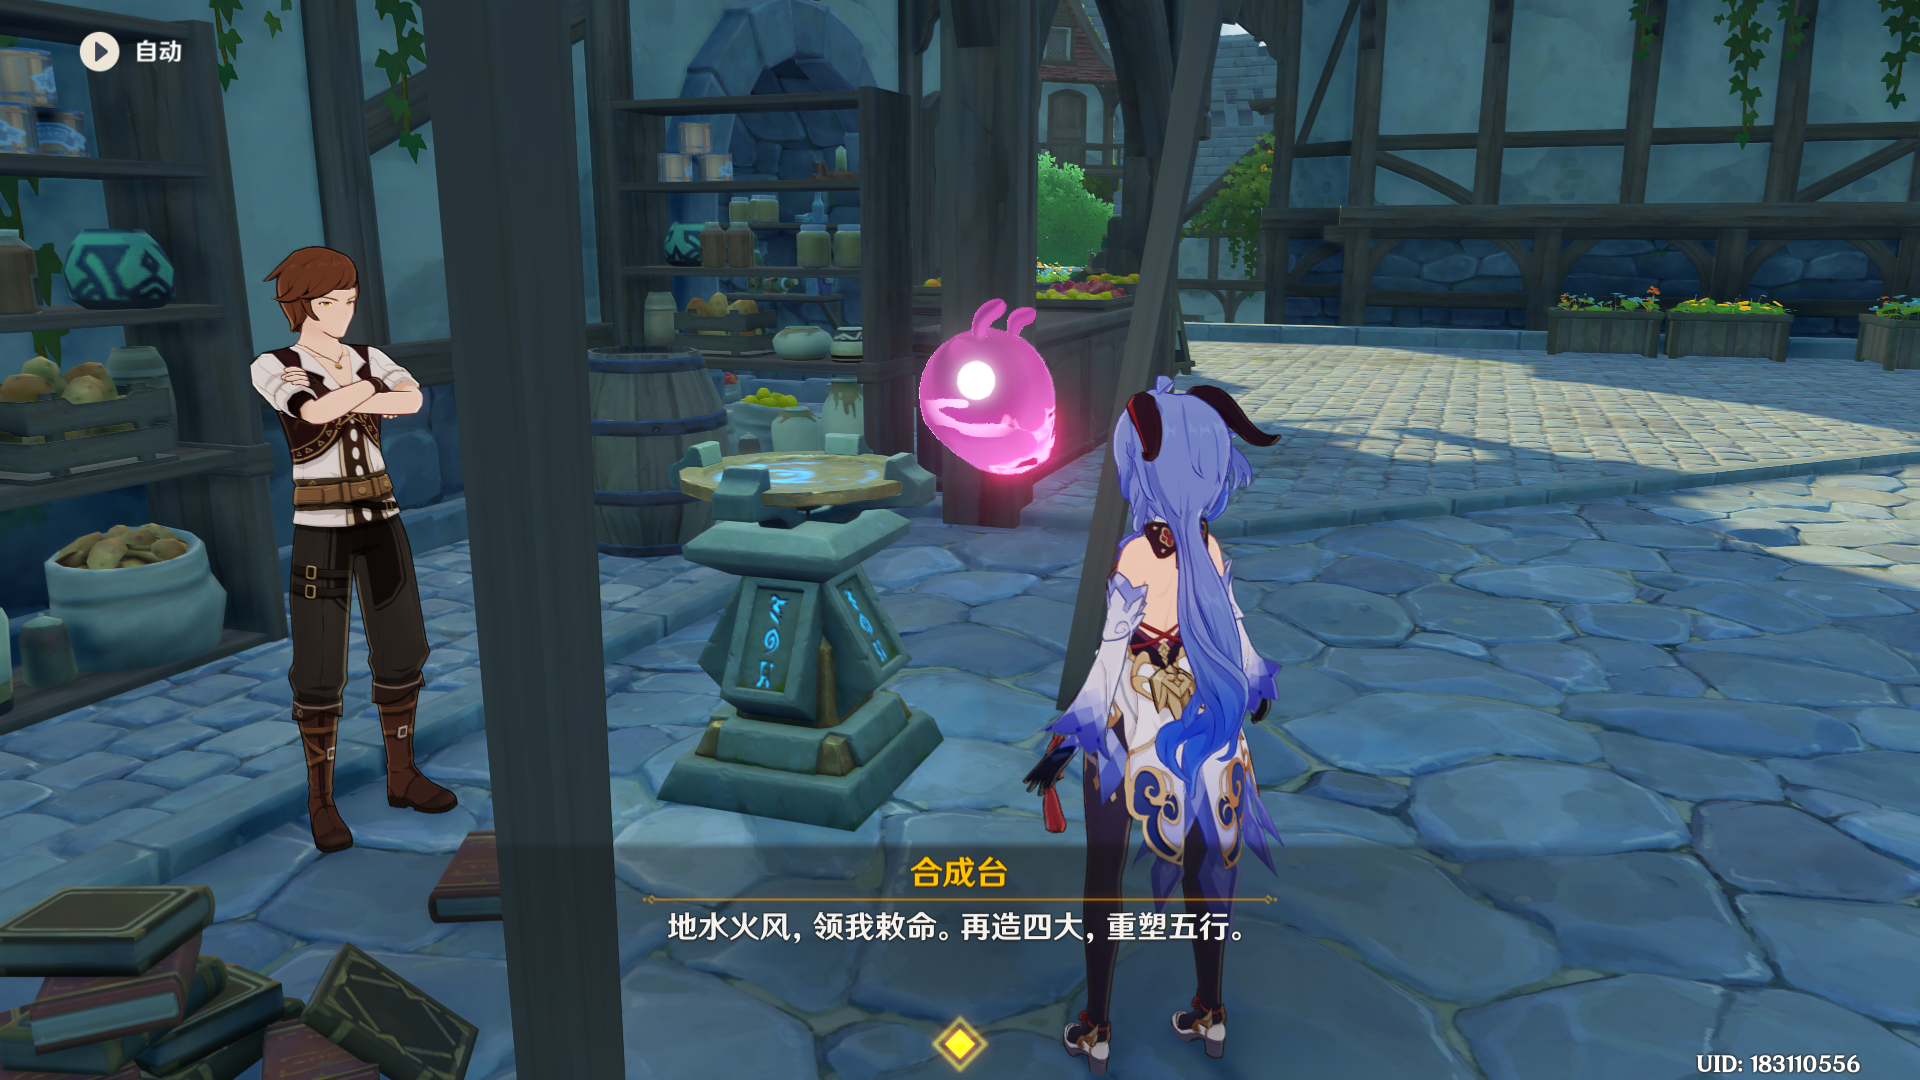character: (909, 345, 1337, 1063)
